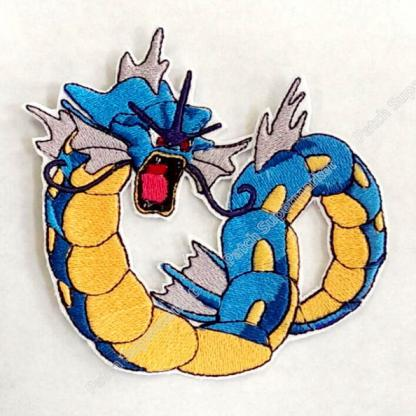Gyarados: (13, 35, 393, 393)
